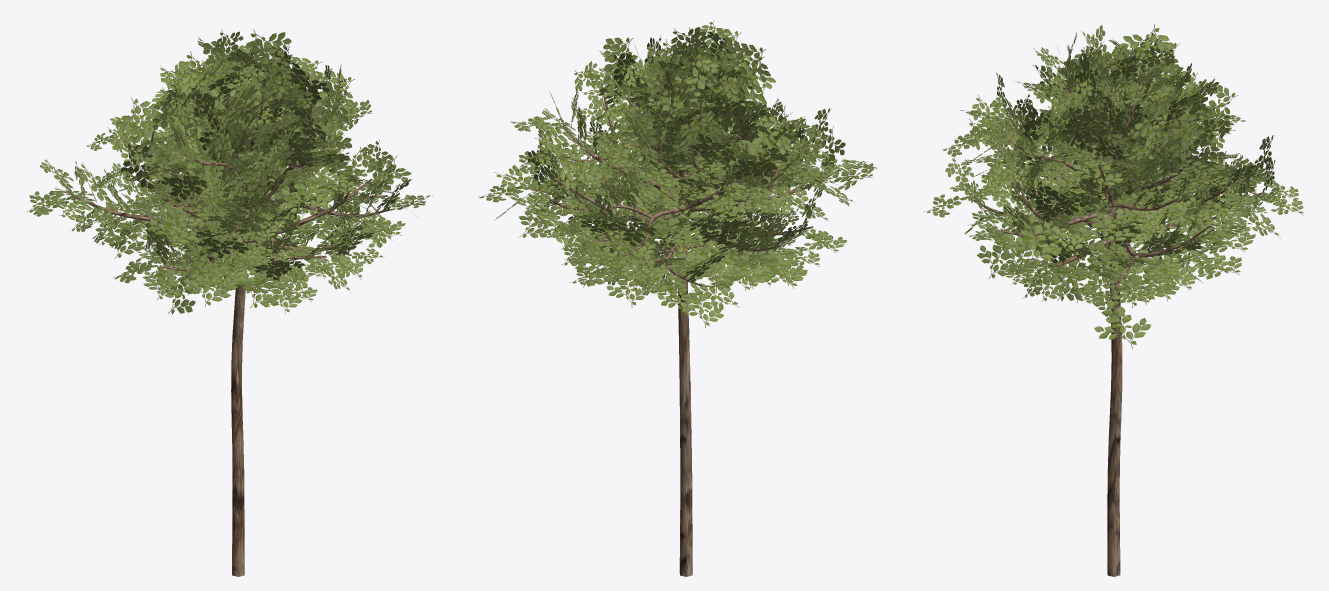
File: tree01.obj
3 renders of one model, left to right at view 1: azimuth 30°, elevation 25°; view 2: azimuth 150°, elevation 25°; view 3: azimuth 270°, elevation 25°, orthographic. The views are drawn at different scales.
Visible parts, largest first — view 1: leaves, tree; view 2: leaves, tree; view 3: leaves, tree.
Part boxes in pixels (x1,y1,x2,y2): leaves: [26, 29, 432, 314]; tree: [65, 64, 390, 576]; leaves: [478, 20, 876, 327]; tree: [535, 53, 842, 576]; leaves: [924, 24, 1303, 348]; tree: [965, 62, 1264, 576].
Bounding box in the file's own units: 5.22 × 7.46 × 4.84.
Materials: 2 (2 with a texture image).
